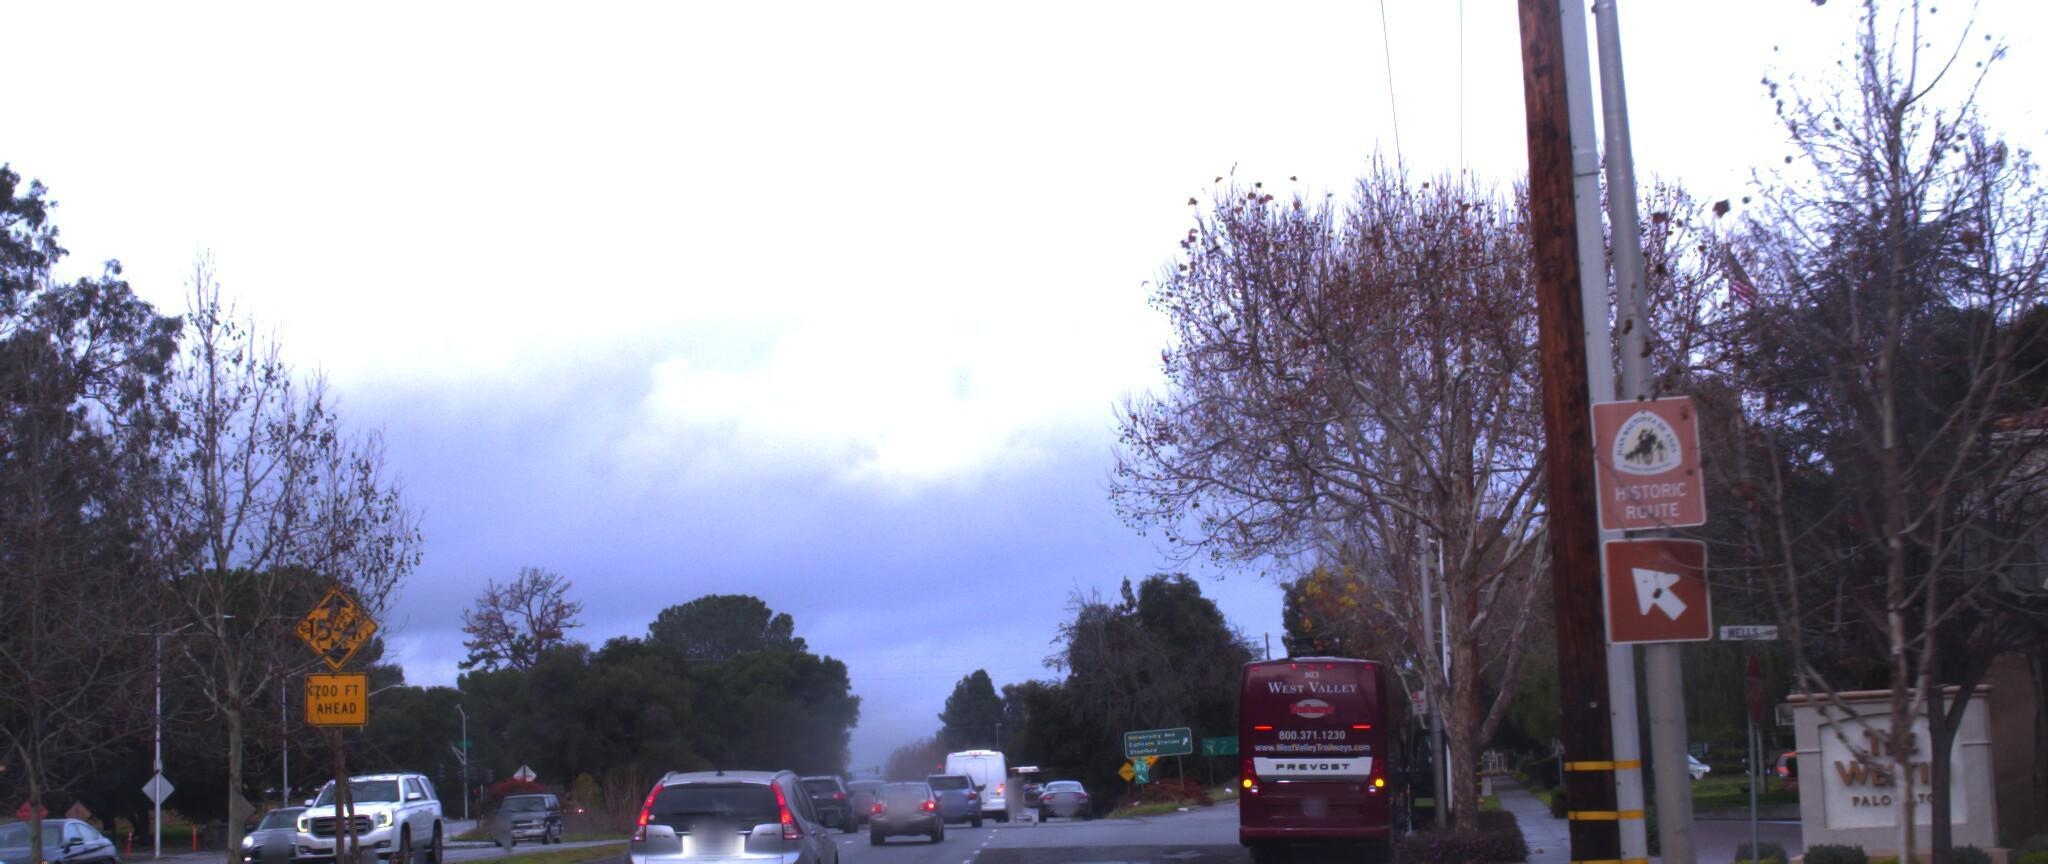bus: (1226, 640, 1425, 843)
car: (613, 745, 842, 864), (0, 792, 293, 864), (287, 752, 441, 864), (0, 790, 135, 864), (859, 765, 940, 837)
